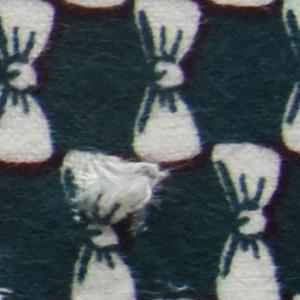Damage: (66, 143, 181, 244), (142, 276, 204, 300), (1, 284, 19, 300)
